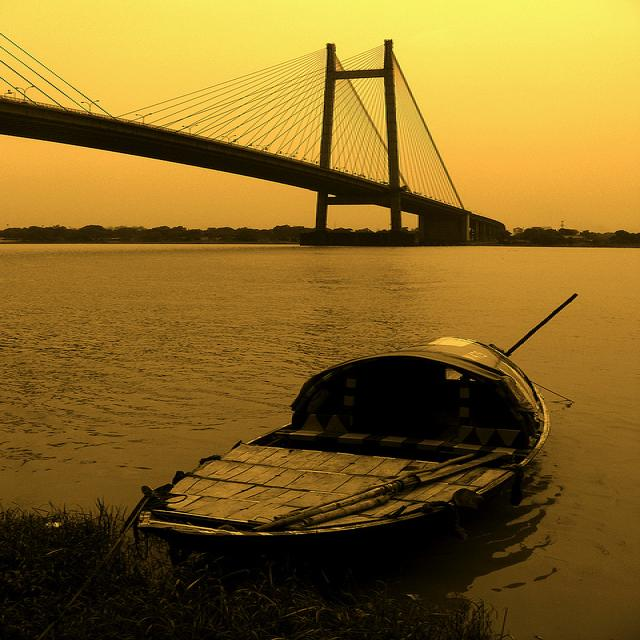Boat: (64, 283, 591, 577)
